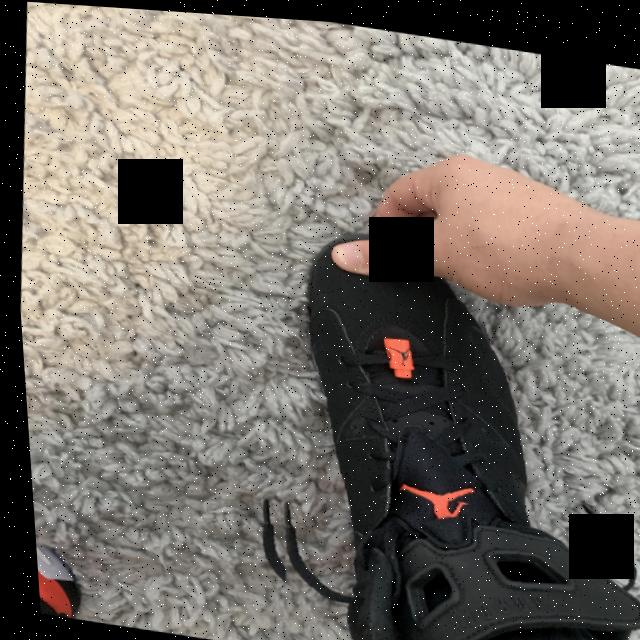shoe: (226, 194, 640, 640)
